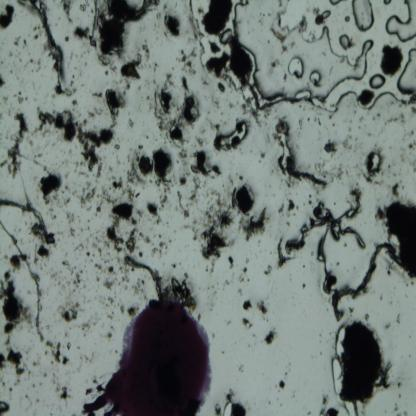Air bubble: (267, 0, 373, 92), (186, 0, 208, 68), (385, 0, 416, 43), (396, 46, 416, 96), (352, 0, 374, 32), (330, 357, 345, 398), (277, 132, 292, 167), (288, 54, 304, 78), (335, 325, 346, 358), (369, 72, 386, 90), (338, 33, 350, 50), (372, 153, 381, 174), (220, 29, 231, 46), (222, 399, 233, 415), (310, 70, 321, 83), (328, 0, 341, 6), (382, 0, 392, 6)
Background material: (284, 194, 366, 289), (0, 222, 45, 341), (88, 0, 158, 58), (345, 318, 392, 404), (149, 70, 200, 143), (374, 200, 416, 280), (126, 144, 173, 204), (200, 192, 236, 263), (77, 121, 114, 171), (0, 111, 27, 179), (36, 108, 78, 141), (162, 275, 198, 312), (228, 38, 252, 91), (212, 117, 248, 151), (201, 0, 233, 38), (104, 86, 128, 130), (238, 209, 269, 242), (77, 235, 105, 268), (190, 152, 222, 180), (58, 260, 82, 294), (80, 384, 106, 414), (106, 216, 124, 254), (113, 179, 140, 204), (45, 338, 69, 366), (207, 50, 230, 78), (36, 172, 62, 196), (111, 201, 137, 224), (6, 347, 26, 376), (95, 262, 116, 289), (119, 59, 143, 82), (62, 215, 82, 242), (275, 235, 291, 268), (143, 236, 167, 257), (174, 188, 190, 219), (97, 177, 108, 221), (57, 301, 80, 322), (79, 181, 97, 207), (125, 225, 140, 256), (233, 265, 248, 296), (162, 14, 182, 37), (358, 166, 380, 186), (106, 293, 123, 318), (319, 395, 340, 415), (0, 5, 15, 32), (146, 201, 162, 226), (32, 242, 51, 263), (310, 2, 324, 27), (100, 54, 116, 75), (11, 32, 29, 50), (79, 318, 96, 337), (176, 145, 190, 167), (230, 358, 247, 376), (56, 80, 73, 97), (181, 224, 199, 240), (206, 38, 222, 55), (263, 330, 280, 346), (74, 26, 92, 41), (285, 195, 297, 217), (270, 27, 285, 44), (62, 1, 73, 24), (231, 398, 246, 414), (321, 140, 337, 155), (275, 119, 290, 135), (250, 111, 262, 128), (190, 178, 200, 198), (257, 299, 268, 317), (0, 398, 11, 415), (89, 102, 102, 116), (141, 43, 151, 61), (224, 388, 236, 403), (59, 386, 70, 402), (341, 135, 351, 152), (240, 316, 254, 328), (179, 47, 186, 69), (0, 70, 8, 89), (391, 180, 399, 198), (264, 262, 274, 276), (216, 81, 226, 95), (131, 305, 139, 322), (0, 353, 7, 372), (242, 300, 254, 311), (407, 136, 416, 150), (228, 253, 235, 270), (278, 379, 287, 391), (32, 24, 38, 41), (79, 2, 88, 13), (16, 94, 24, 106), (91, 90, 103, 98), (320, 10, 332, 18), (70, 100, 78, 110), (178, 176, 188, 184), (63, 35, 70, 43), (109, 332, 115, 340)
Cellulose filter fibre: (331, 240, 395, 320), (34, 2, 66, 80), (0, 199, 50, 242), (250, 86, 325, 110), (123, 257, 163, 299), (286, 155, 328, 188)
Fragment: (236, 186, 254, 214)
Pen: (104, 298, 217, 414)
